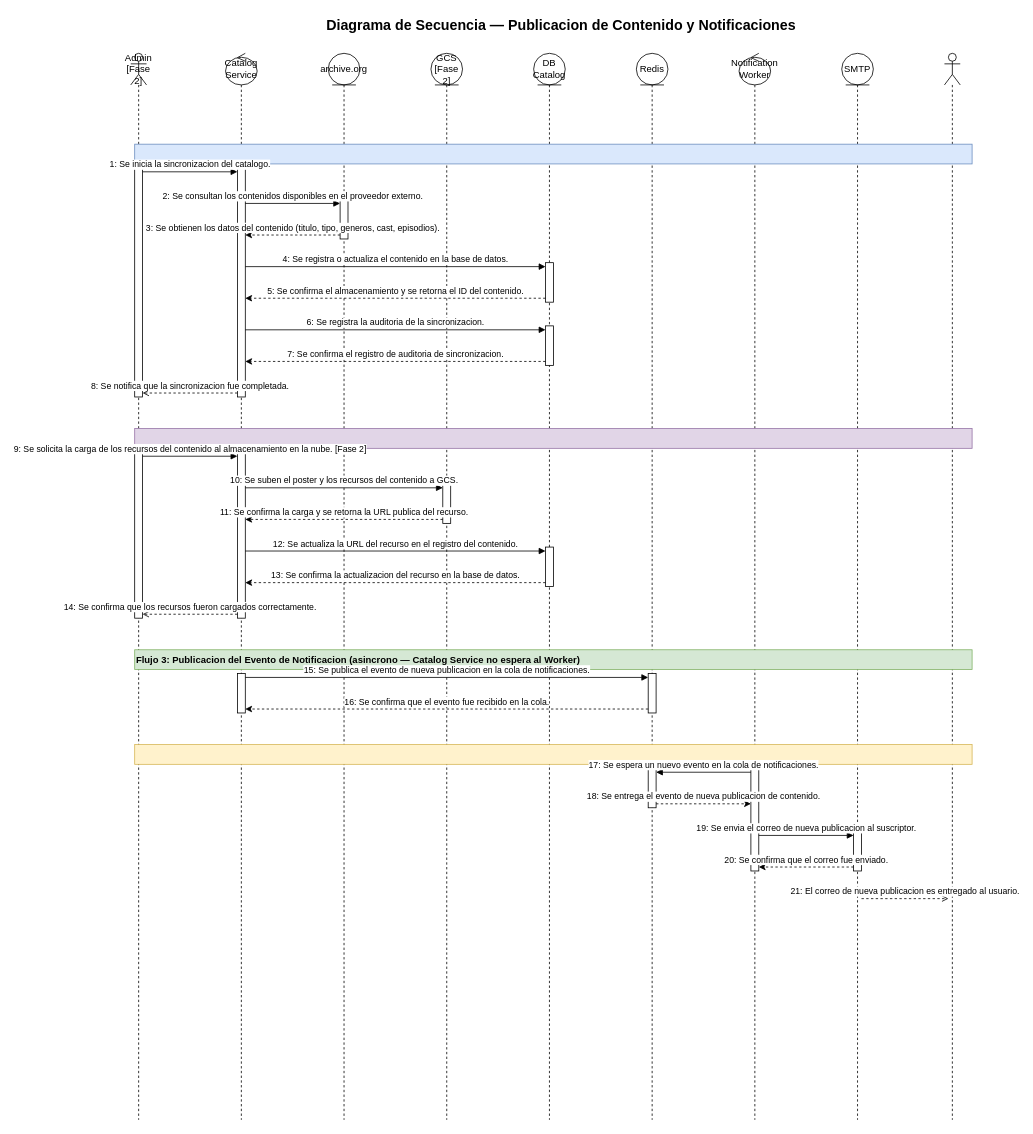
Image size: 1033x1134. Some labels were removed from this diagram. Each missing label, with the box of its shape:
Flujo 1: Sincronizacion del Catalogo [Admin Panel — Fase 2 / Cronjob — Fase 1]: (134, 143, 972, 164)
Flujo 2: Carga de Recursos del Contenido en GCS [Fase 2]: (134, 428, 972, 448)
Flujo 4: Procesamiento y Envio de Notificacion por Correo: (134, 744, 972, 764)
Usuario: (944, 53, 960, 1120)
